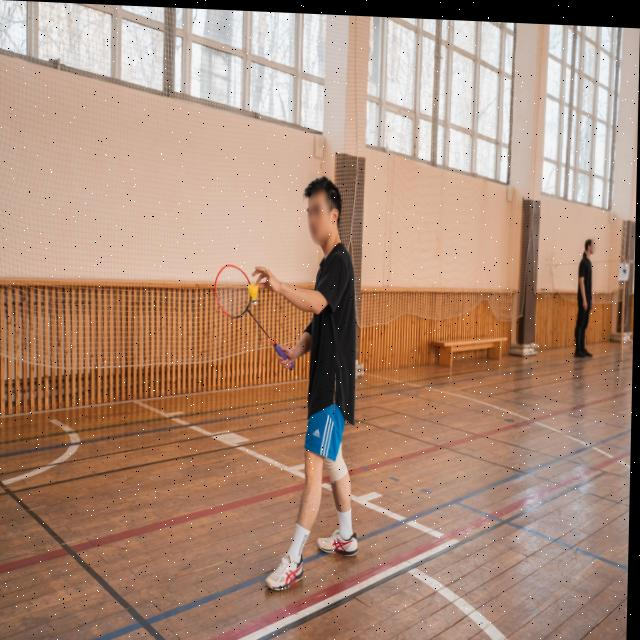Person: (256, 149, 388, 611), (567, 221, 606, 359)
